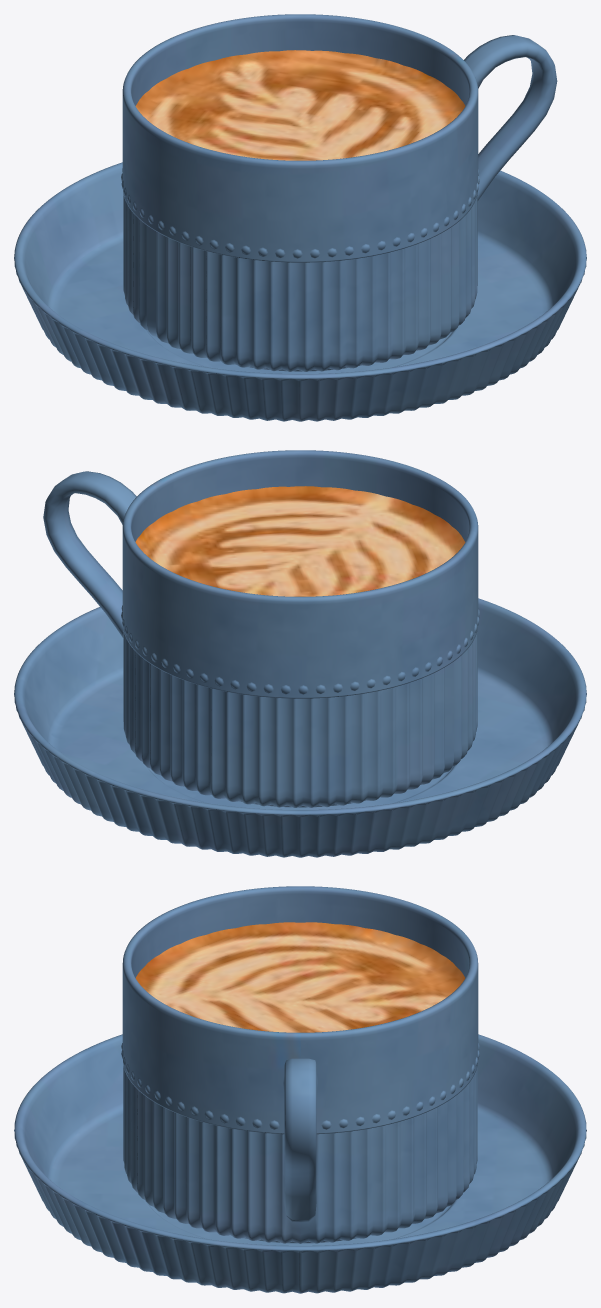
Rendered from coffee-B.glb.
The picture shows the model from 3 angles, top to bottom: view 1: azimuth 30°, elevation 25°; view 2: azimuth 150°, elevation 25°; view 3: azimuth 270°, elevation 25°; orthographic projection.
Parts seen in each view (by area): view 1: cup, plate, coffee; view 2: cup, plate, coffee; view 3: cup, plate, coffee.
Part boxes in pixels (x1=…): cup: x1=121, y1=14, x2=557, y2=371; plate: x1=14, y1=162, x2=586, y2=421; coffee: x1=135, y1=50, x2=465, y2=160; cup: x1=43, y1=450, x2=479, y2=807; plate: x1=14, y1=598, x2=586, y2=857; coffee: x1=135, y1=486, x2=465, y2=596; cup: x1=121, y1=886, x2=479, y2=1243; plate: x1=14, y1=1034, x2=586, y2=1293; coffee: x1=135, y1=922, x2=465, y2=1032.
Size of the model in its own units: 0.2231 by 0.1008 by 0.2217.
Materials: 1 (1 with a texture image).
